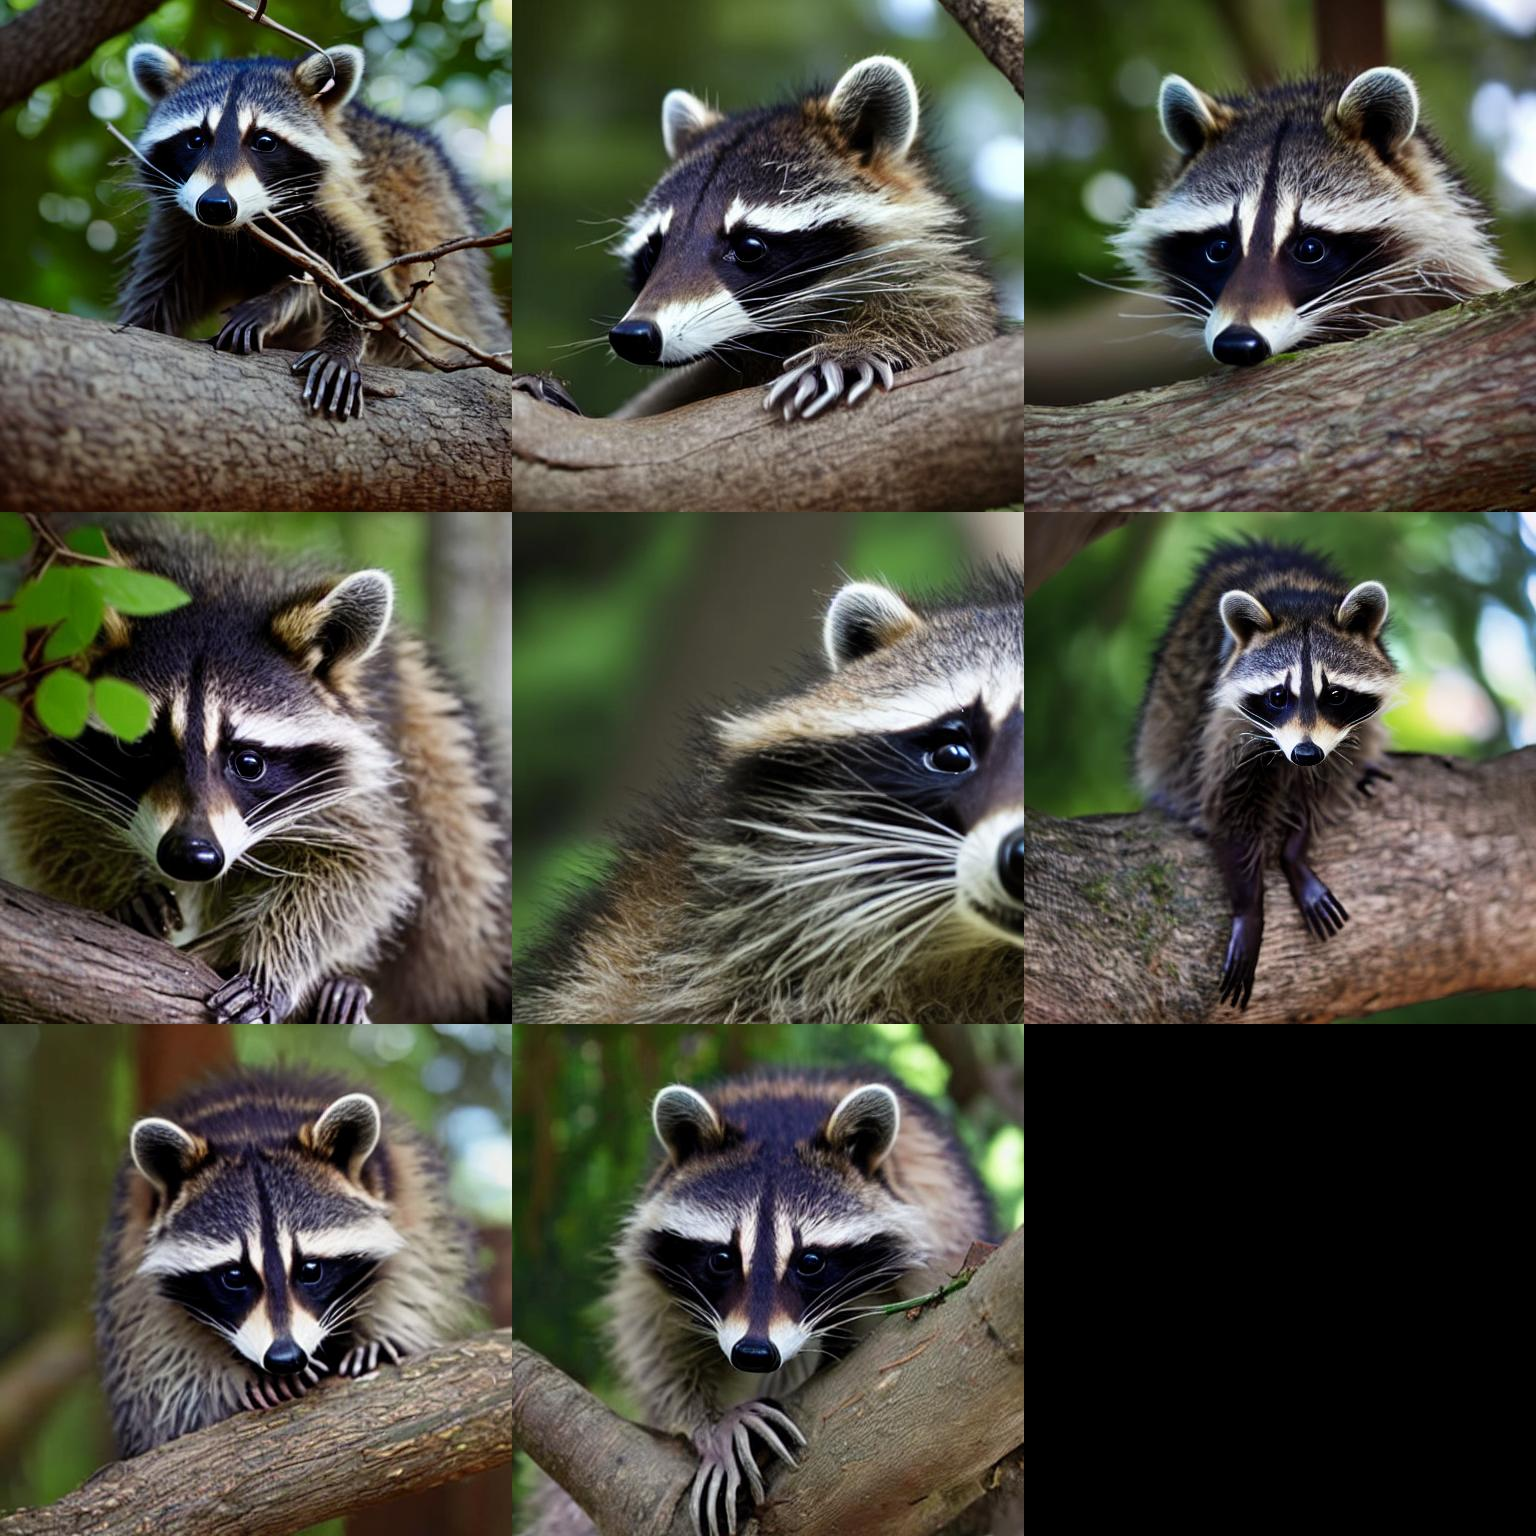raccoon: (518, 560, 1023, 1017), (35, 530, 505, 980), (575, 1052, 1000, 1415), (90, 1070, 473, 1438), (1106, 58, 1521, 383), (100, 35, 505, 347), (585, 45, 965, 354), (1125, 530, 1412, 858)
